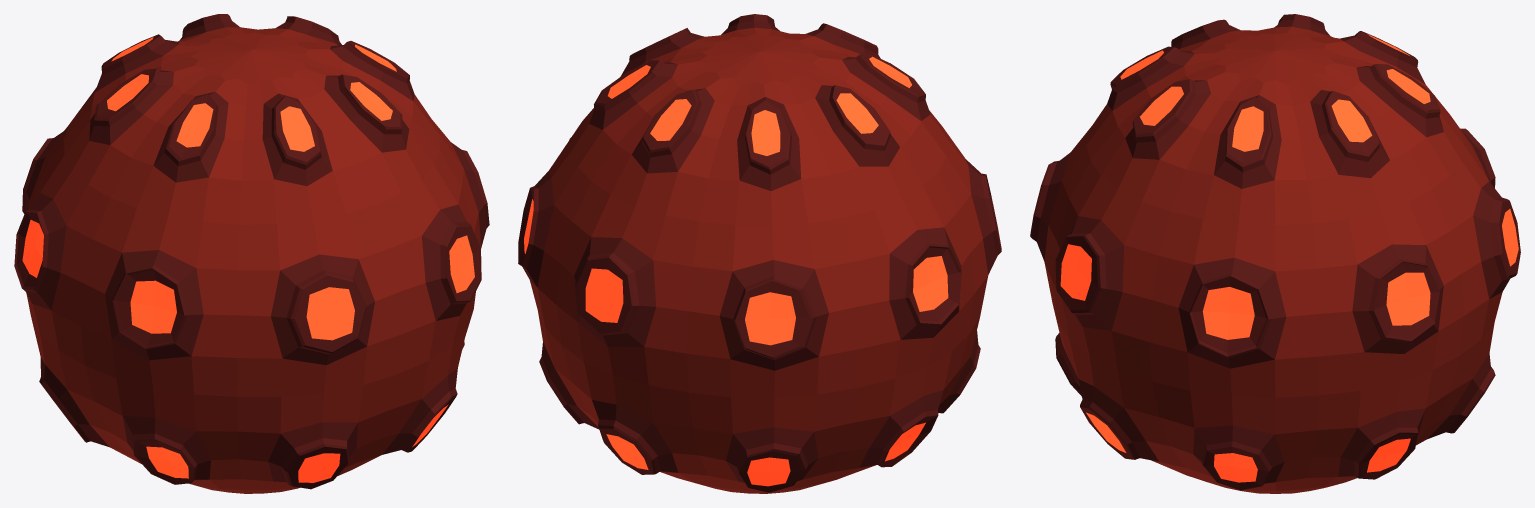
Rendered from studio_planet_05.fbx.
The picture shows the model from 3 angles, left to right: view 1: azimuth 30°, elevation 25°; view 2: azimuth 150°, elevation 25°; view 3: azimuth 270°, elevation 25°; orthographic projection.
Visible parts, largest first — view 1: Sphere.004; view 2: Sphere.004; view 3: Sphere.004.
Boxes of the visible parts, <box> form: Sphere.004: <box>14,14,489,493</box>; Sphere.004: <box>518,14,1001,493</box>; Sphere.004: <box>1030,14,1520,493</box>.
Size of the model in its own units: 735 by 711 by 746.
